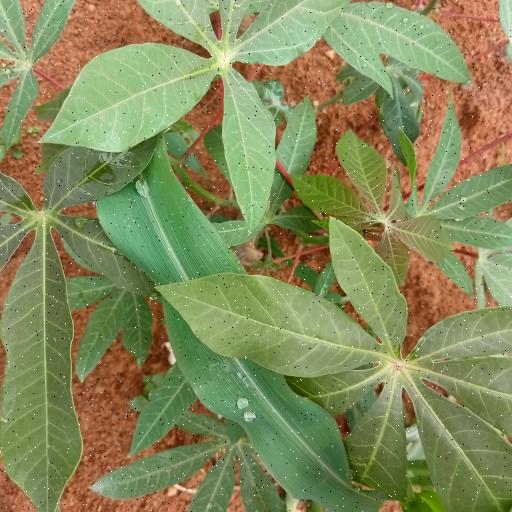Cassava_Mosaic: (188, 239, 512, 512), (0, 116, 165, 512), (296, 135, 450, 271)
